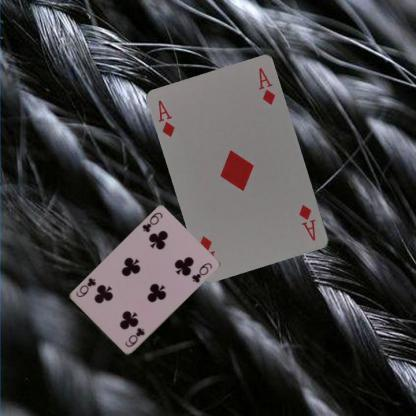6c: (139, 210, 164, 234), (123, 325, 146, 350)
Ad: (155, 98, 177, 138), (297, 202, 318, 243)
